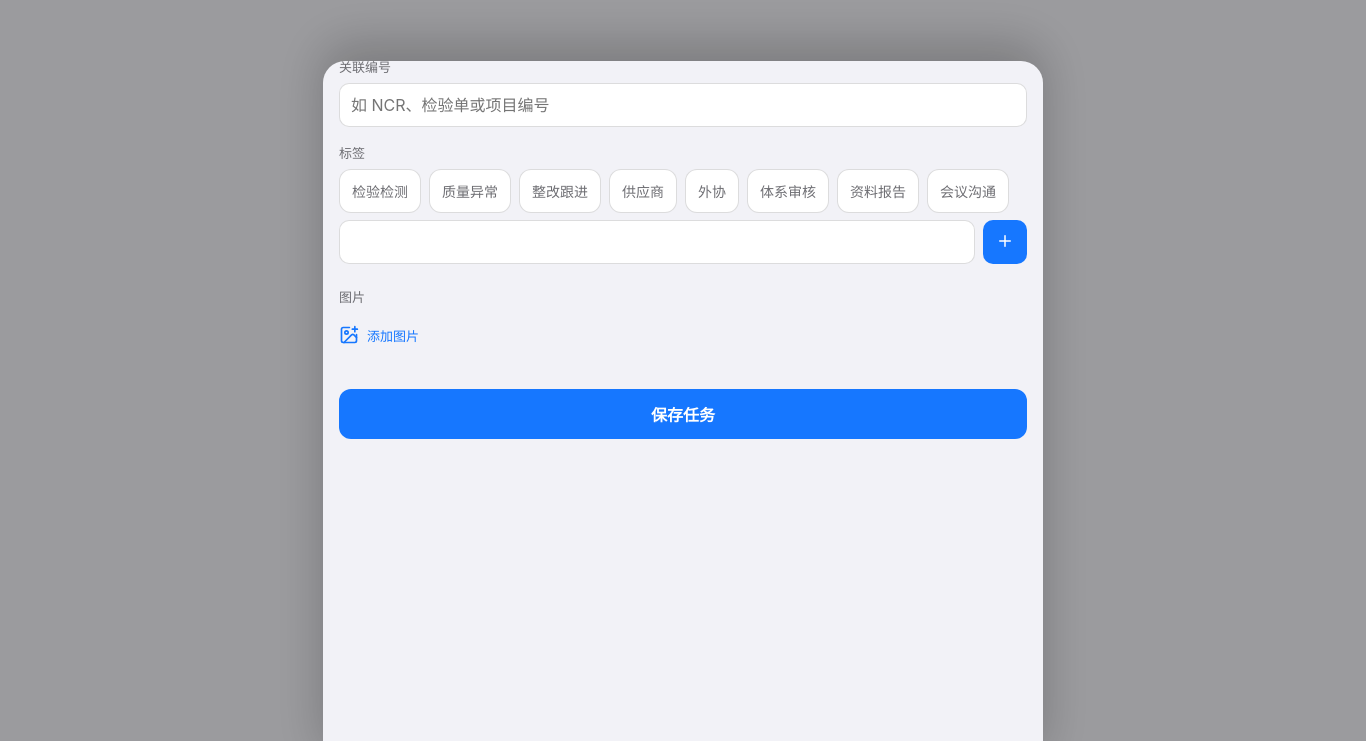
Scenario: TaskEditorSheet › keeps a failed edit open with its input and a retryable error
(page scrolled)
What coordinates should you click on to do the following:
click the button "保存任务"
I would click on:
 (683, 414)
Its box is [339,390,1027,440].
(page scrolled)
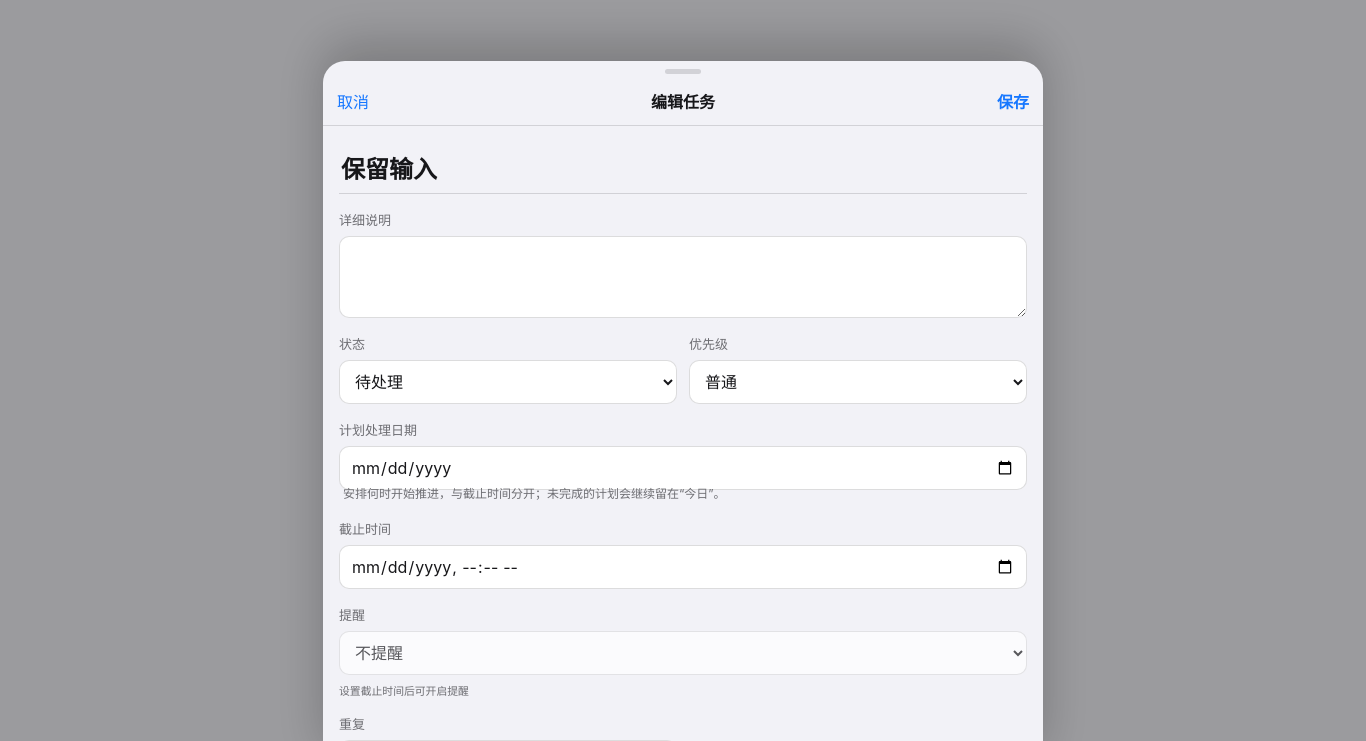
Now the field named "任务标题" holds "保留输入", box [339,142,1027,194]
